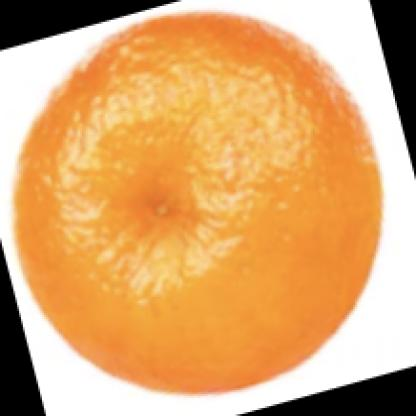orange: (11, 9, 385, 397)
